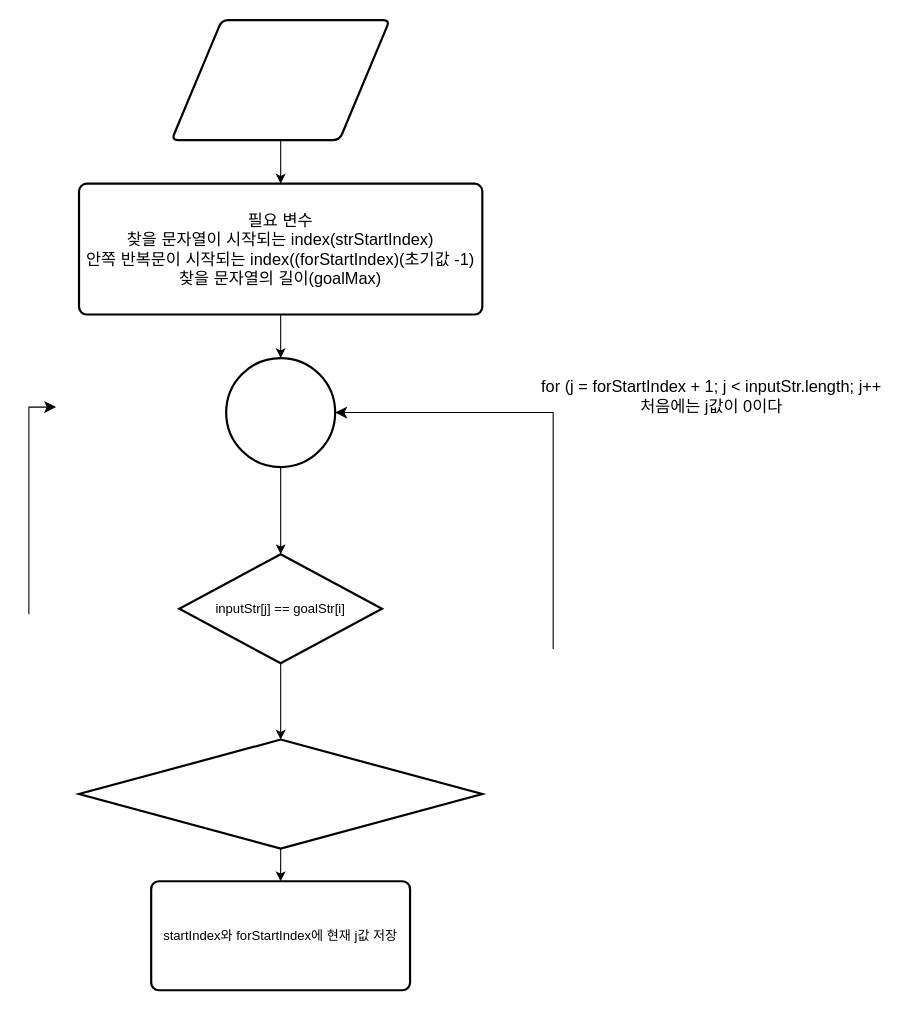
The diagram is 916 pixels wide and 1009 high, and some of its shapes have lost their labels. Each missing label, with the centre of its shape:
"j == 0 (goalStr의 첫 글자를 검사 중이라면" belongs at (280,793).
"입력 문자열이 숨은 문자열 inputStr 찾을 문자열 goalSt r" belongs at (280,80).
